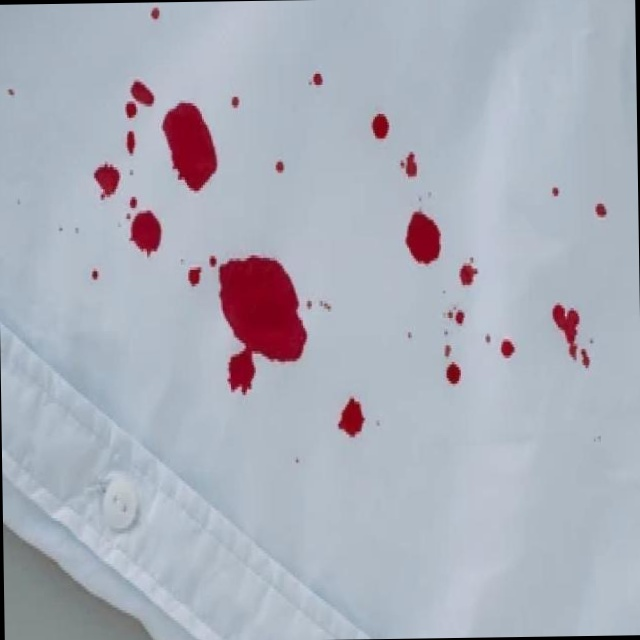blood: (380, 203, 525, 393), (86, 81, 220, 258), (212, 247, 312, 398)
